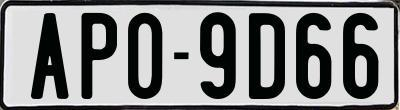0: (126, 12, 160, 100)
6: (295, 11, 335, 99), (341, 11, 376, 99)
9: (199, 9, 239, 102)
A: (28, 13, 67, 105)
D: (249, 10, 287, 96)
P: (78, 12, 120, 104)
